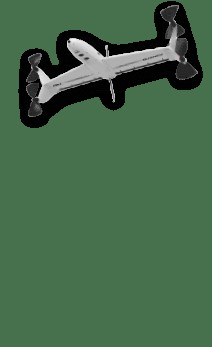maybay_khongnguoilai: (20, 16, 196, 105)
